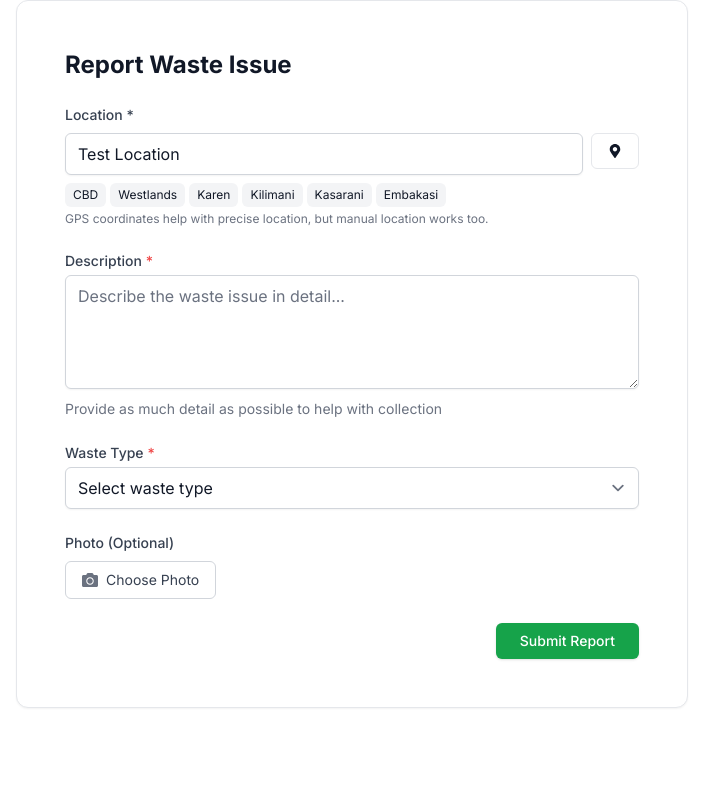
Test: ReportForm - Coordinate Fix Tests › should handle GPS failure gracefully
The image size is (705, 800).
Click the button titled "Use GPS to get current location". click: (615, 151)
box: x1=591 y1=133 x2=639 y2=169
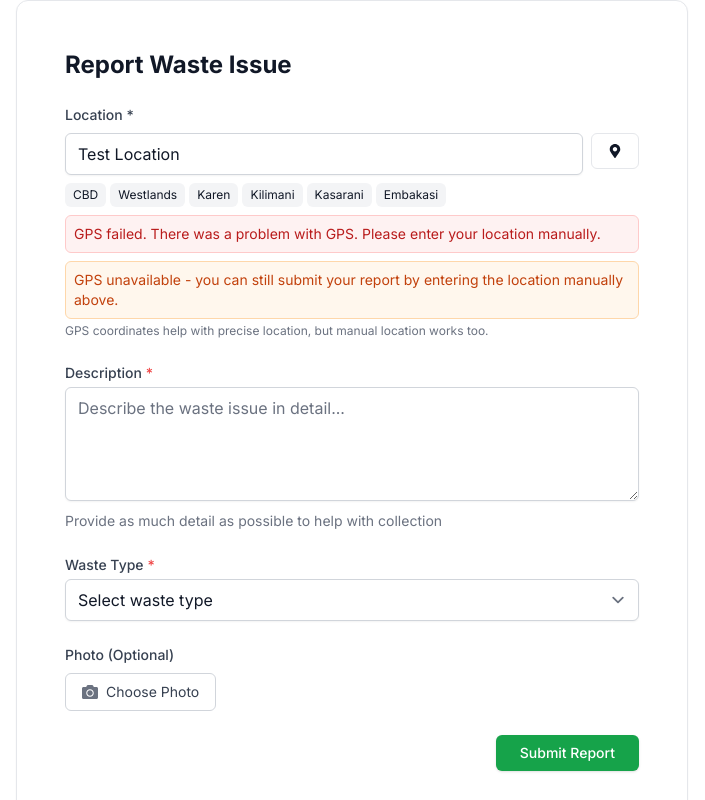
Expected: the text "GPS unavailable" is shown, x1=74 y1=271 x2=623 y2=308
